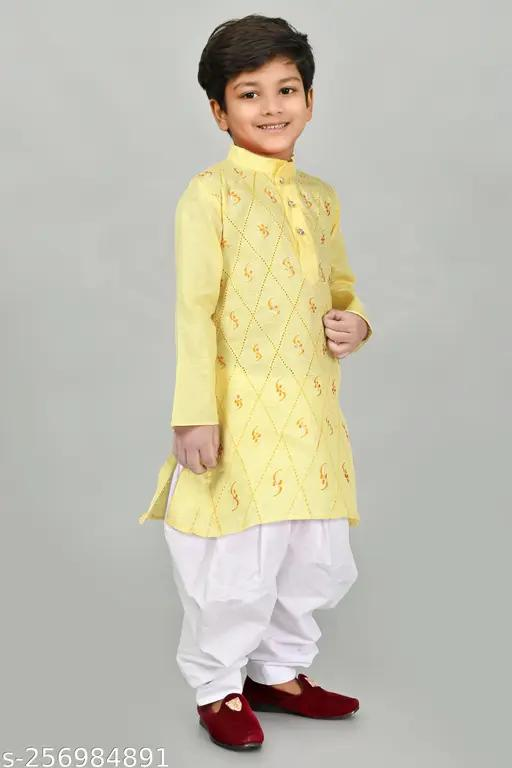Human: (156, 3, 403, 752)
